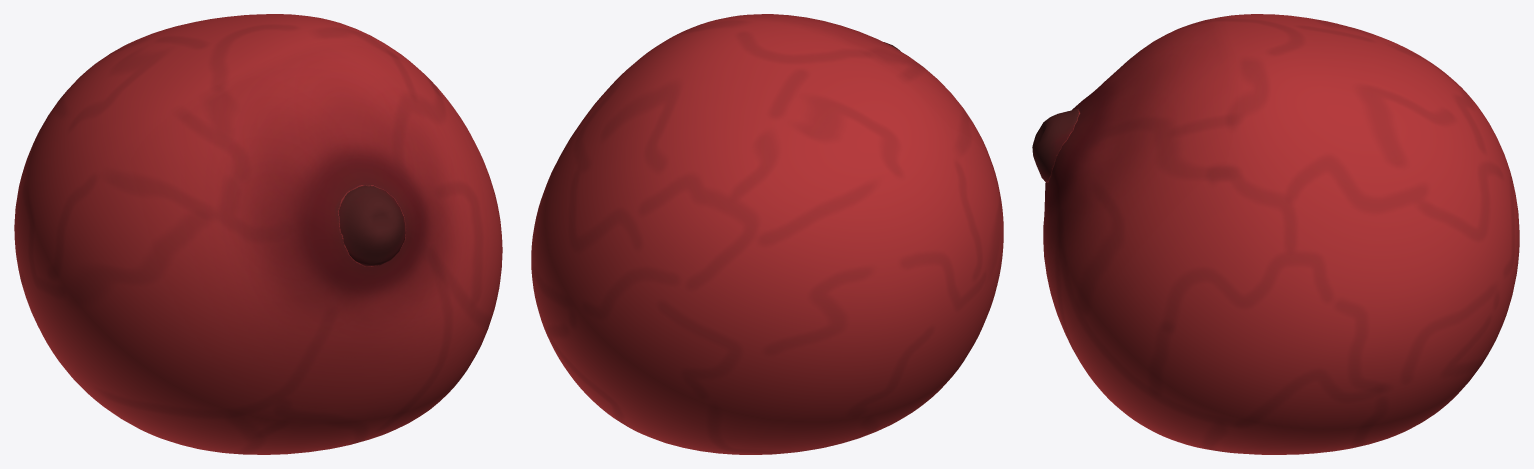
File: flashlighttiddy.glb
3 renders of one model, left to right at view 1: azimuth 30°, elevation 25°; view 2: azimuth 150°, elevation 25°; view 3: azimuth 270°, elevation 25°, orthographic. The views are drawn at different scales.
Visible parts, largest first — view 1: flashlighttiddy; view 2: flashlighttiddy; view 3: flashlighttiddy.
Boxes of the visible parts, <box> form: flashlighttiddy: <box>14,14,502,454</box>; flashlighttiddy: <box>531,14,1003,454</box>; flashlighttiddy: <box>1032,14,1519,454</box>.
Bounding box in the file's own units: 0.8973 × 0.7823 × 0.9201.
1 material, 1 textured.
